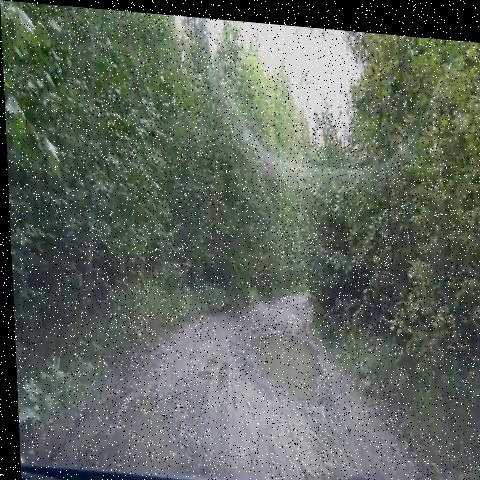pothole: (85, 374, 195, 475), (237, 301, 321, 416), (186, 338, 221, 385)
